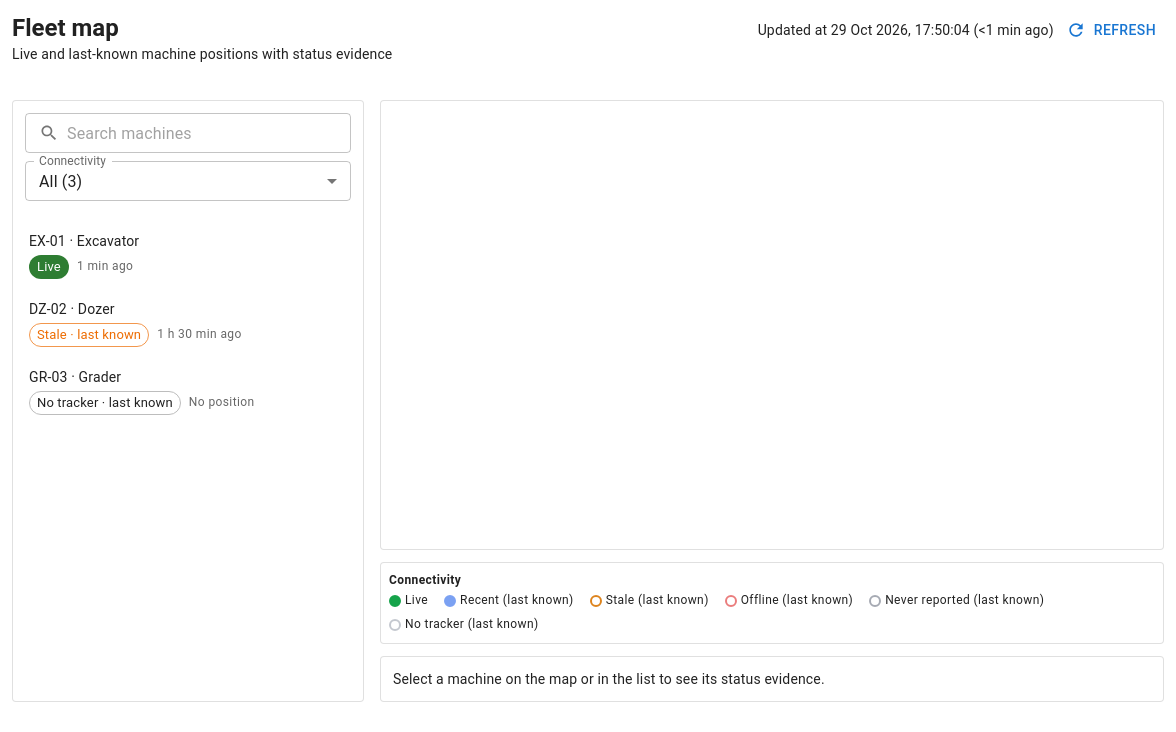
Scenario: FleetMapPage › filters list and markers by connectivity
Click the dropdown named "Connectivity" at (61, 181), box [39, 172, 82, 190]
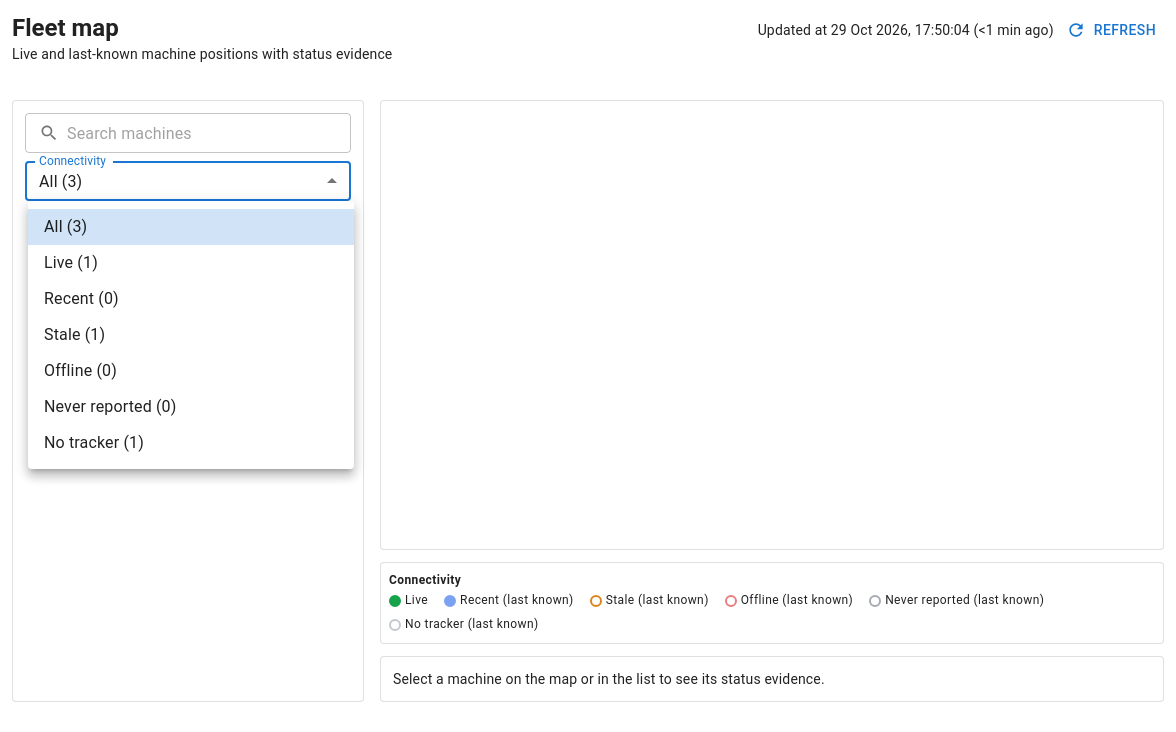
Click the option "Stale (1)" at (75, 334), box [44, 325, 105, 344]
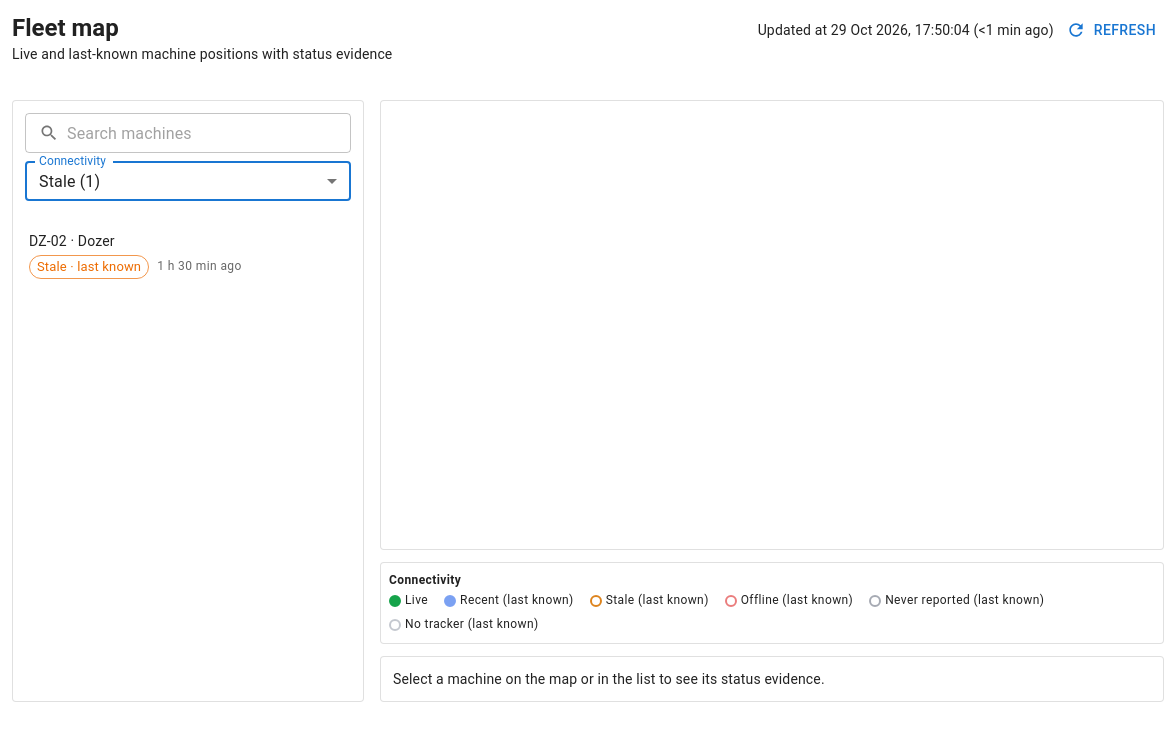
expect the text "DZ-02 · Dozer" is shown: met, box [29, 233, 115, 249]
expect the button "EX-01 · Excavator" is gone: met
